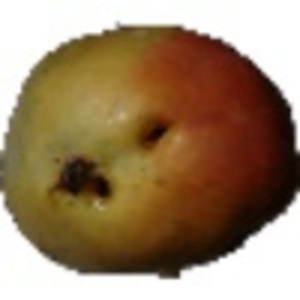mamão: (2, 13, 296, 284)
